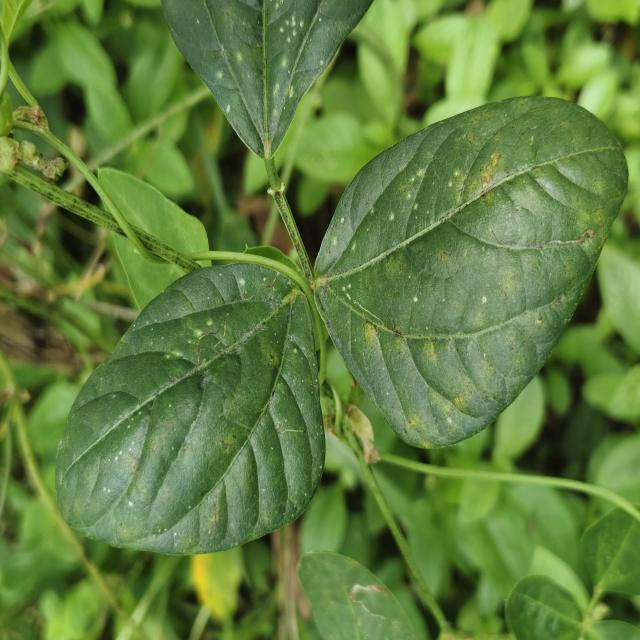sitaw-aphid-high: (315, 97, 628, 448), (55, 246, 325, 555), (162, 0, 372, 157)
